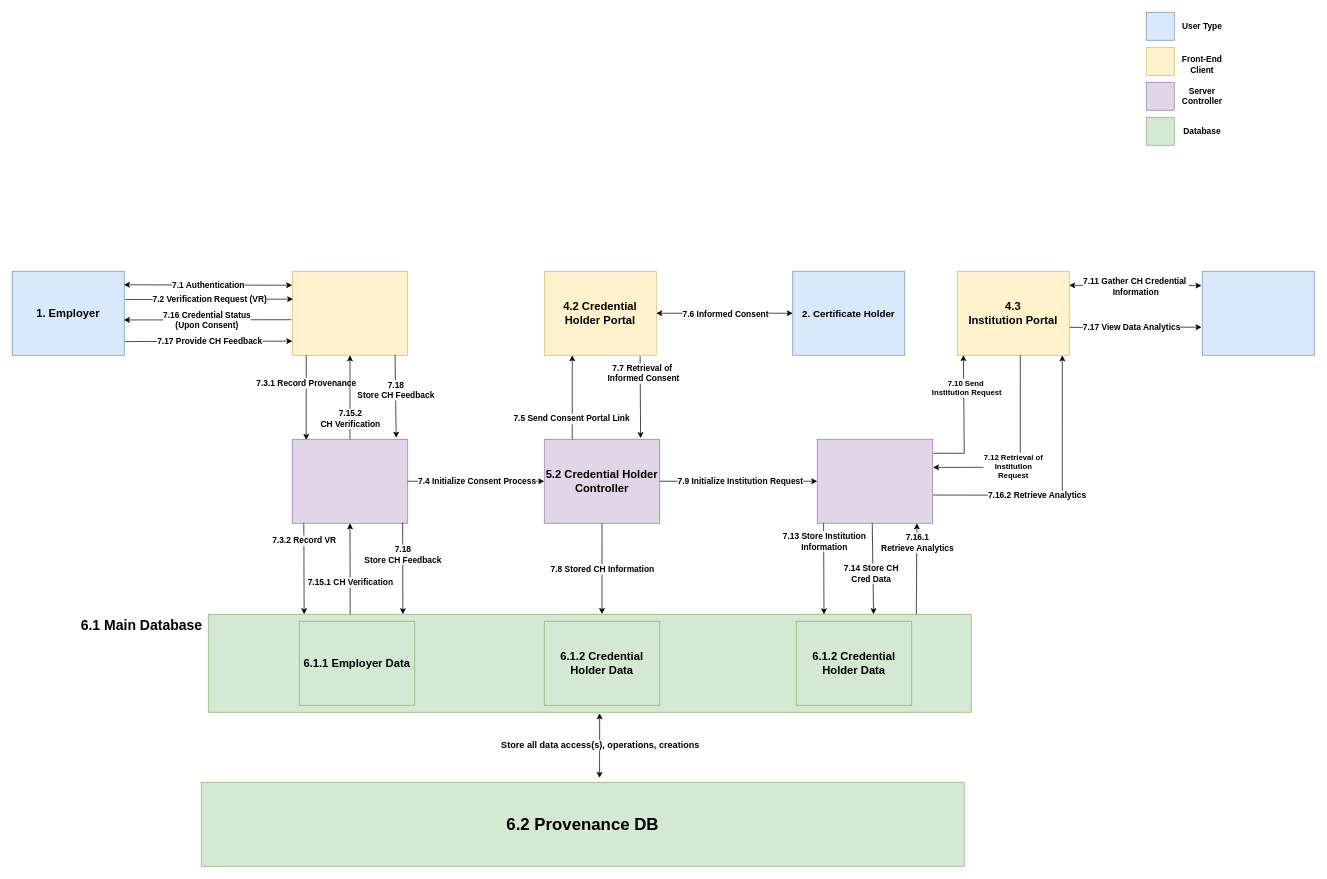
Image size: 1327x879. Some labels were removed from this diagram. Each missing label, with the box of its shape:
3. Institution: (1202, 271, 1314, 355)
4.1 Employer Portal: (292, 271, 408, 355)
5.1 Employer Controller: (292, 439, 408, 523)
5.3 Institution Controller: (817, 439, 933, 523)
